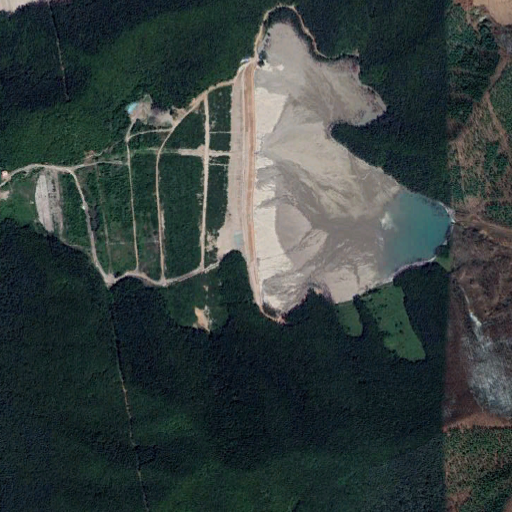tp: (32, 22, 451, 329)
